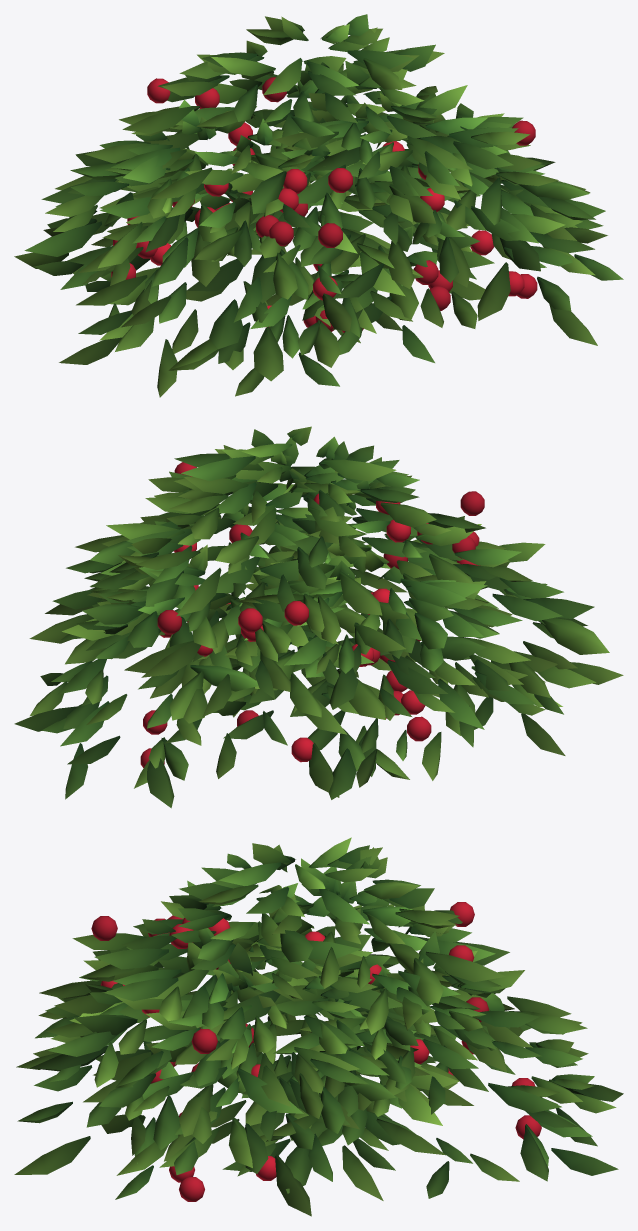
Rendered from bush_berry.glb.
The picture shows the model from 3 angles, top to bottom: view 1: azimuth 30°, elevation 25°; view 2: azimuth 150°, elevation 25°; view 3: azimuth 270°, elevation 25°; orthographic projection. The views are drawn at different scales.
Visible parts, largest first — view 1: bush_berry; view 2: bush_berry; view 3: bush_berry.
Part boxes in pixels (<box>): bush_berry: <box>14,14,623,397</box>; bush_berry: <box>14,426,623,808</box>; bush_berry: <box>14,837,623,1216</box>.
Size of the model in its own units: 1.61 by 0.7947 by 1.61.
